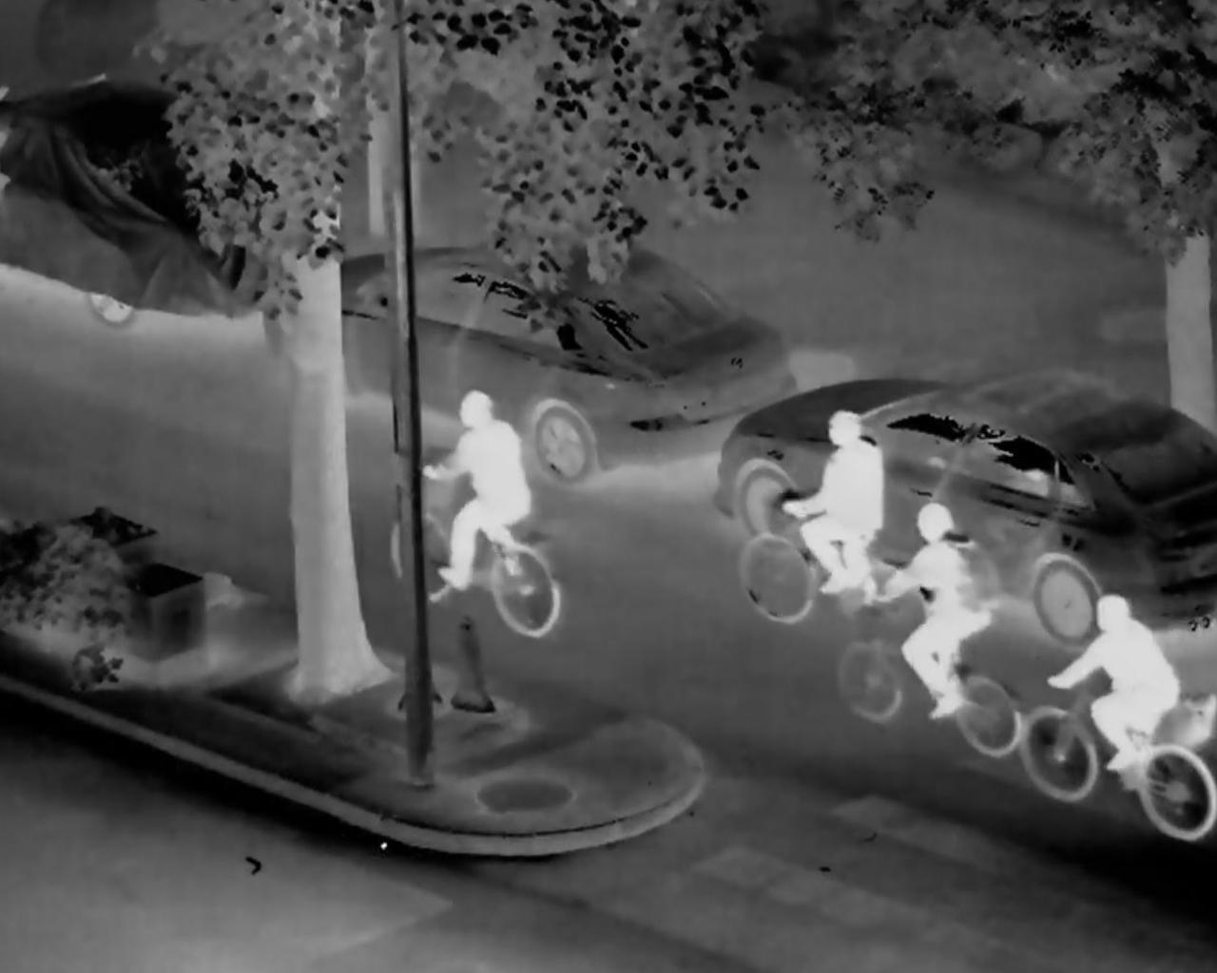person: (1050, 576, 1194, 810), (416, 383, 545, 609), (893, 502, 995, 730), (790, 405, 894, 602)
